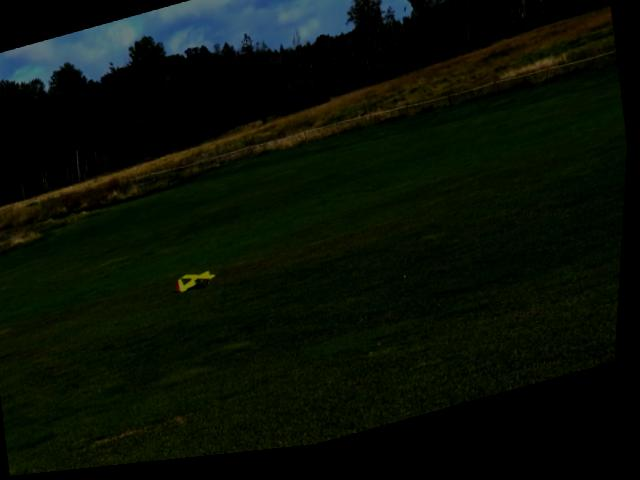plane: (174, 270, 222, 302)
